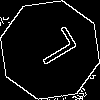L: (25, 25, 79, 72)
